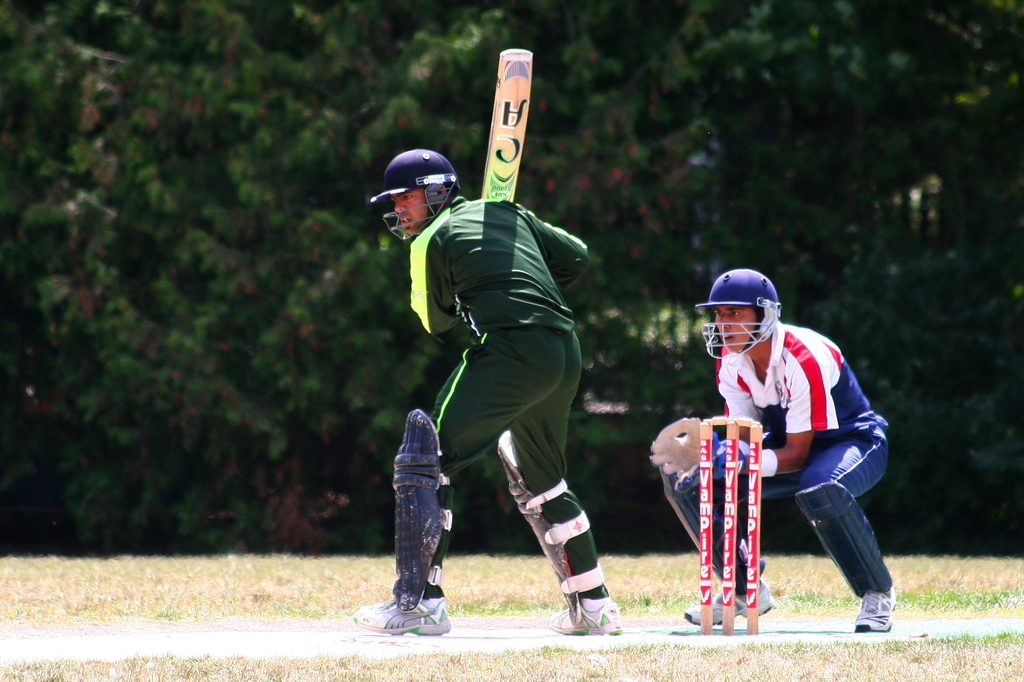Person: (346, 149, 621, 635), (649, 268, 896, 632)
